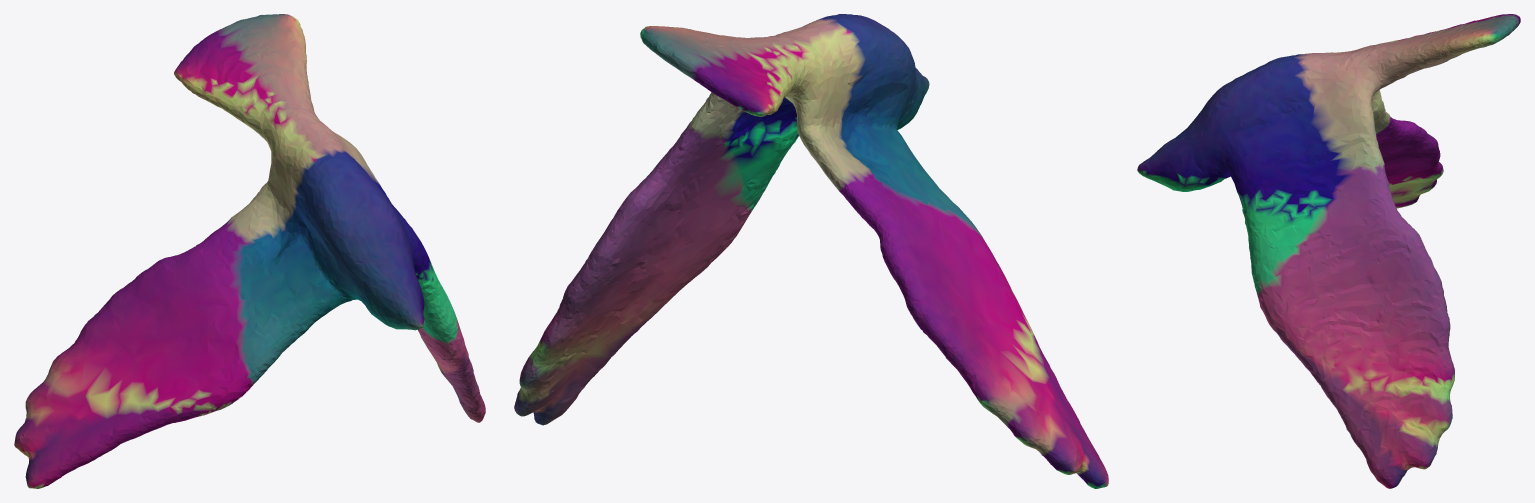
Rendered from bird1-20.off.obj.
The picture shows the model from 3 angles, left to right: view 1: azimuth 30°, elevation 25°; view 2: azimuth 150°, elevation 25°; view 3: azimuth 270°, elevation 25°; orthographic projection. The views are drawn at different scales.
Size of the model in its own units: 1.37 by 1.13 by 1.01.
